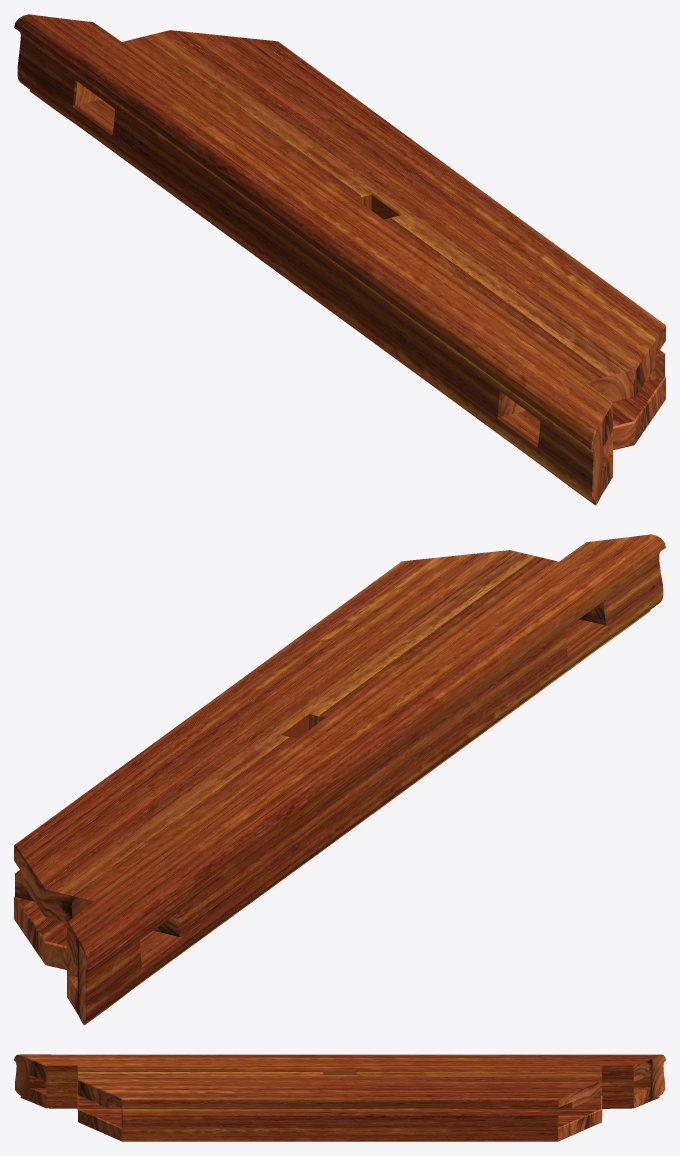
Rendered from quanyi_J_D_motou_zuo.FBX.
3 renders of one model, top to bottom at view 1: azimuth 30°, elevation 25°; view 2: azimuth 150°, elevation 25°; view 3: azimuth 270°, elevation 25°, orthographic. The views are drawn at different scales.
Parts seen in each view (by area): view 1: quanyi_J_D_motou_zuo; view 2: quanyi_J_D_motou_zuo; view 3: quanyi_J_D_motou_zuo.
Boxes of the visible parts, x1,y1,x2,y2 form: quanyi_J_D_motou_zuo: (14, 14, 665, 505); quanyi_J_D_motou_zuo: (14, 534, 665, 1025); quanyi_J_D_motou_zuo: (14, 1054, 665, 1141).
Bounding box in the file's own units: 8.14 × 3.52 × 47.87.
Materials: 2 (2 with a texture image).
